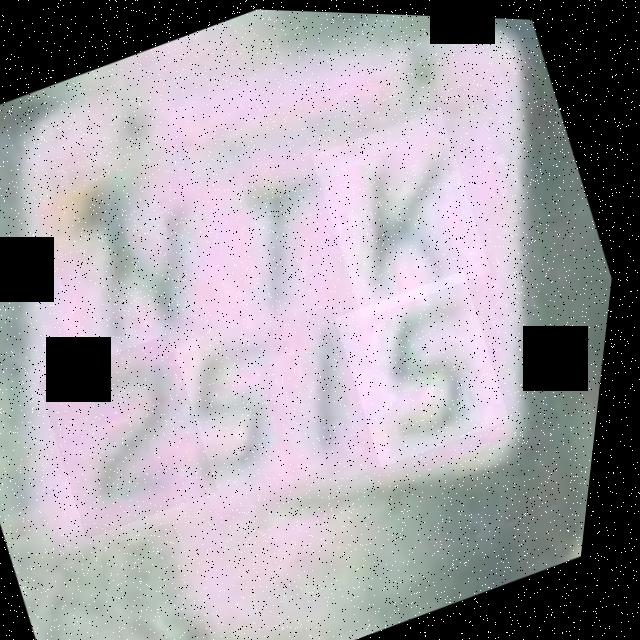1: (241, 290, 422, 491)
2: (33, 328, 242, 541)
5: (329, 263, 531, 467), (137, 306, 330, 503)
N: (30, 155, 249, 381), (301, 101, 511, 319)
T: (179, 131, 379, 349)
